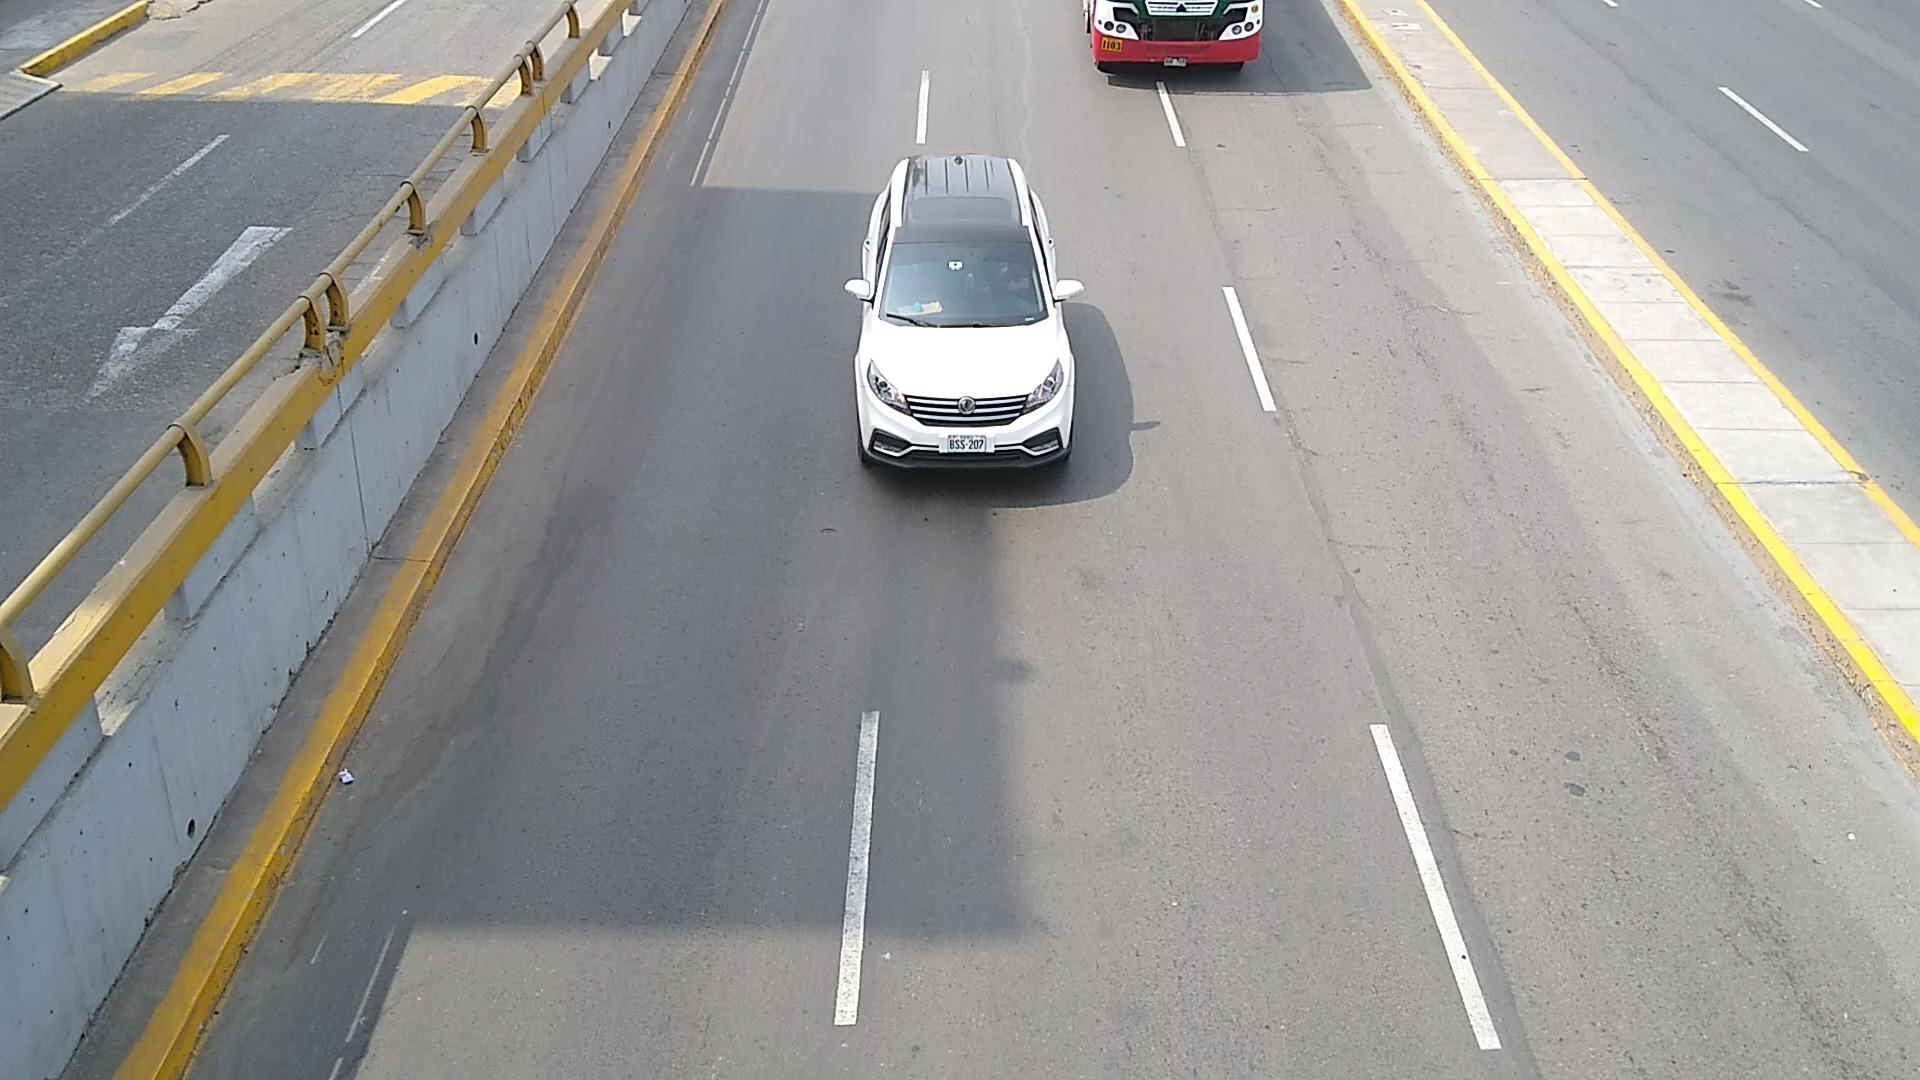bus: (1084, 0, 1263, 71)
car: (848, 154, 1084, 465)
